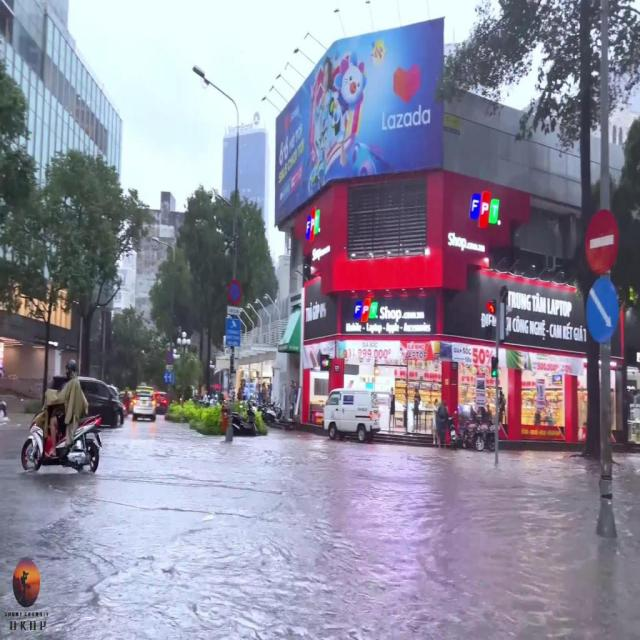cam_dung_xe_va_do_xe: (228, 279, 242, 305)
cam_xe_di_nguoc_chieu: (585, 210, 619, 275)
huong_phai_di_vuot_chuong_ngai_vat_phai: (586, 277, 618, 341)
khac: (226, 318, 240, 347), (227, 307, 240, 316)
